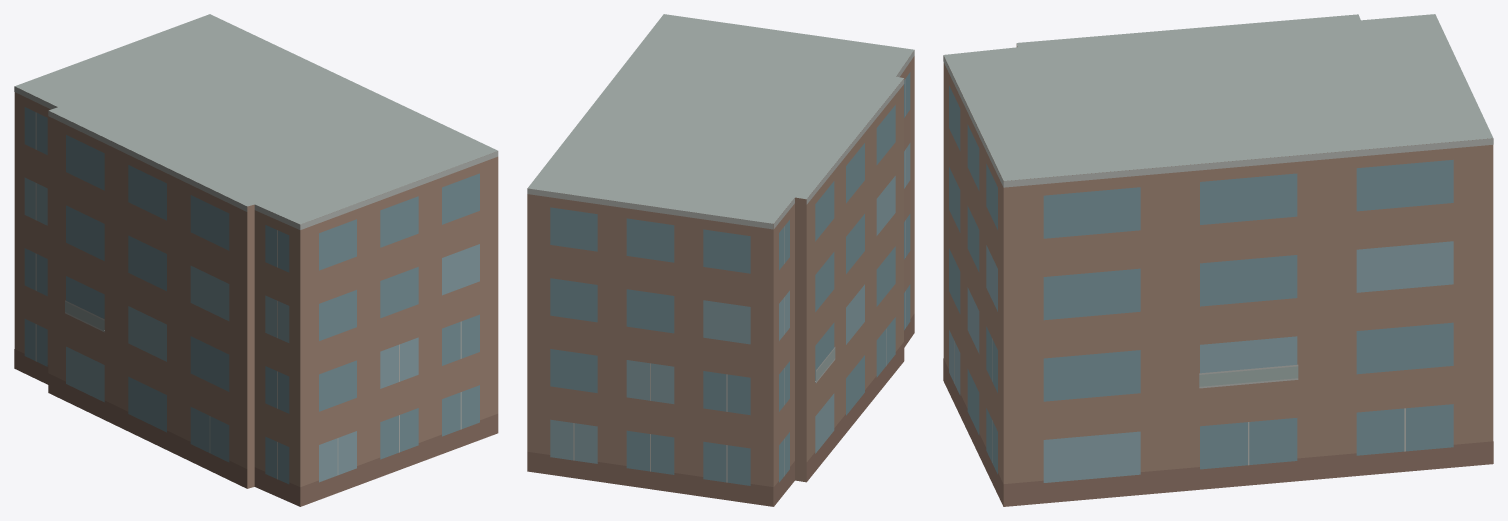
Rendered from survey-upis-32698483.glb.
3 renders of one model, left to right at view 1: azimuth 30°, elevation 25°; view 2: azimuth 150°, elevation 25°; view 3: azimuth 270°, elevation 25°, orthographic. The views are drawn at different scales.
Parts seen in each view (by area): view 1: survey-upis-32698483.tmp; view 2: survey-upis-32698483.tmp; view 3: survey-upis-32698483.tmp.
Boxes of the visible parts, x1,y1,x2,y2 form: survey-upis-32698483.tmp: [14, 14, 498, 506]; survey-upis-32698483.tmp: [527, 14, 914, 506]; survey-upis-32698483.tmp: [943, 14, 1493, 506].
Bounding box in the file's own units: 13.43 × 12.2 × 18.68.
